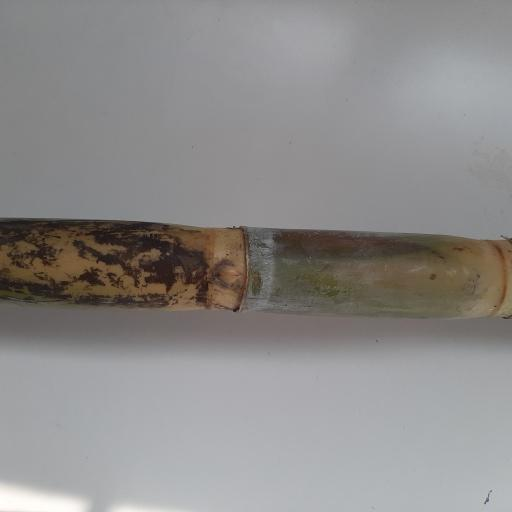Bud: (214, 262, 245, 286)
